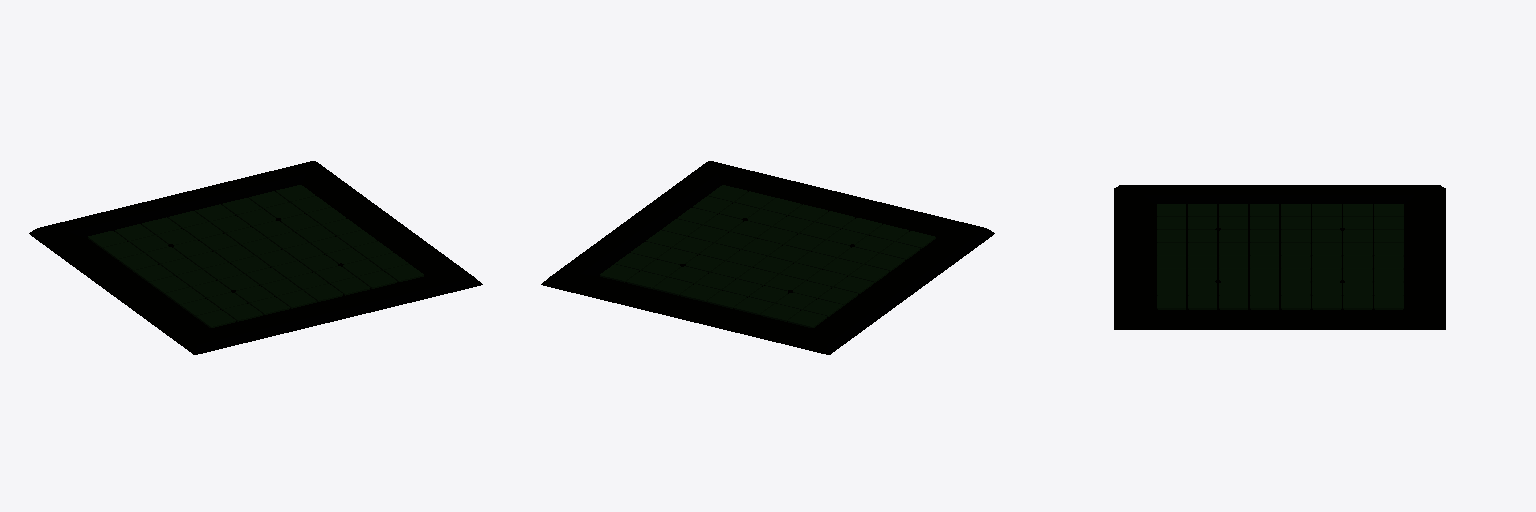
File: board.obj
3 views of the same model, side by side, from view 1: azimuth 30°, elevation 25°; view 2: azimuth 150°, elevation 25°; view 3: azimuth 270°, elevation 25° (orthographic).
Parts seen in each view (by area): view 1: square, board; view 2: square, board; view 3: square, board.
Part boxes in pixels (bbox=[...]): square: bbox=[88, 185, 423, 327]; board: bbox=[29, 161, 482, 354]; square: bbox=[600, 185, 935, 327]; board: bbox=[541, 161, 994, 354]; square: bbox=[1157, 204, 1403, 309]; board: bbox=[1114, 185, 1445, 329].
Bounding box in the file's own units: 11.29 × 0.2426 × 11.26.